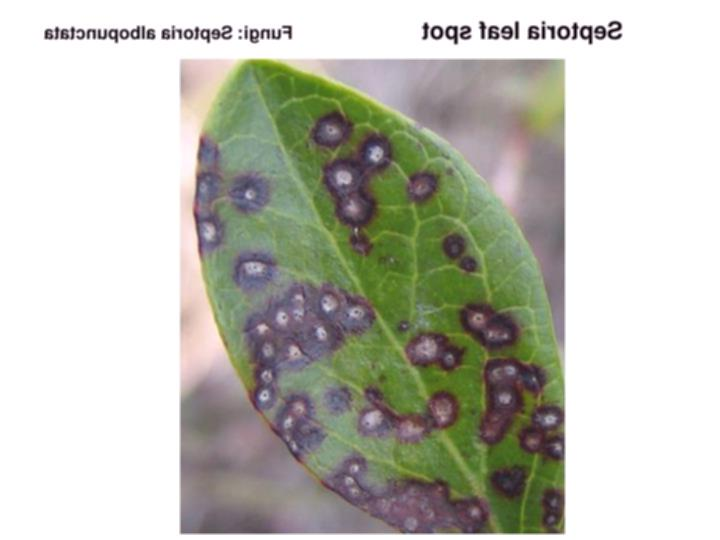Tomato Septoria leaf spot: (191, 63, 563, 525)
